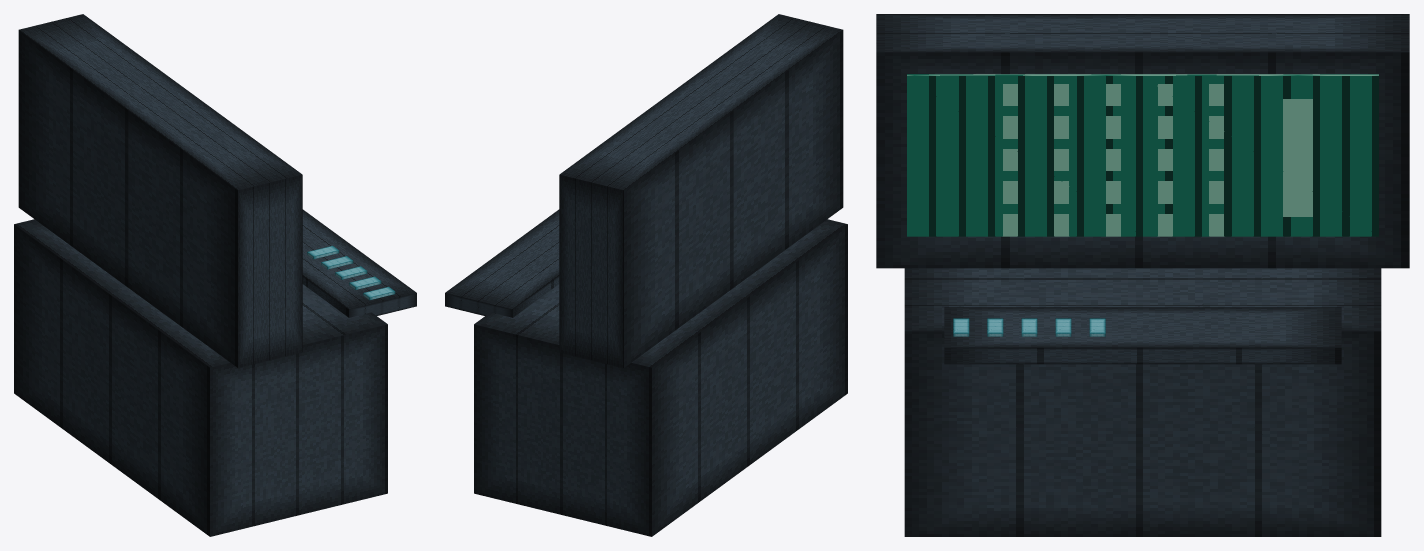
File: terminal.obj
The picture shows the model from 3 angles, left to right: view 1: azimuth 30°, elevation 25°; view 2: azimuth 150°, elevation 25°; view 3: azimuth 270°, elevation 25°; orthographic projection. The views are drawn at different scales.
Size of the model in its own units: 1.38 by 2.08 by 2.35.
Materials: 3 (3 with a texture image).
